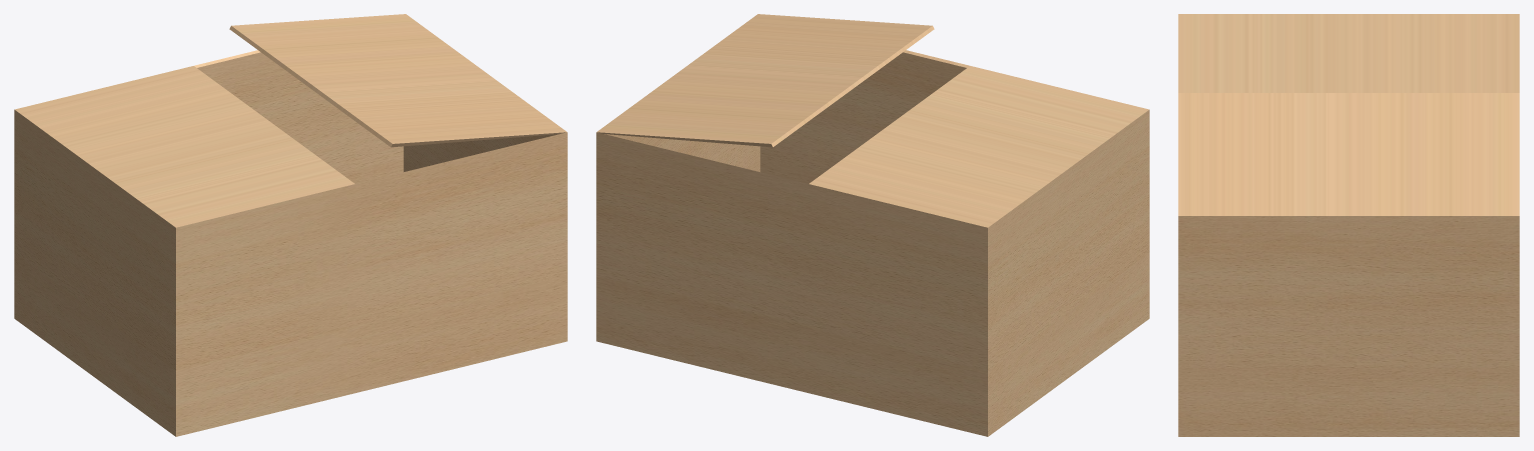
File: envi6.fbx
The picture shows the model from 3 angles, left to right: view 1: azimuth 30°, elevation 25°; view 2: azimuth 150°, elevation 25°; view 3: azimuth 270°, elevation 25°; orthographic projection. The views are drawn at different scales.
Visible parts, largest first — view 1: Cube.002; view 2: Cube.002; view 3: Cube.002.
Part boxes in pixels (x1=…): Cube.002: x1=14, y1=14, x2=567, y2=436; Cube.002: x1=596, y1=14, x2=1149, y2=436; Cube.002: x1=1178, y1=14, x2=1519, y2=436.
Size of the model in its own units: 200 by 117 by 143.
Materials: 1 (1 with a texture image).
